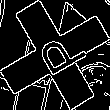P_SW: (24, 26, 86, 84)
